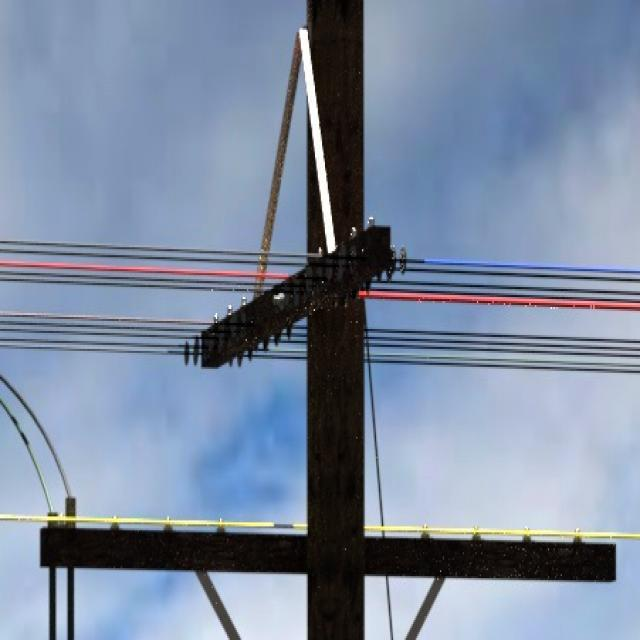crossarm: (202, 28, 393, 371), (43, 528, 619, 582), (255, 60, 298, 285)
pole: (299, 0, 368, 640)
